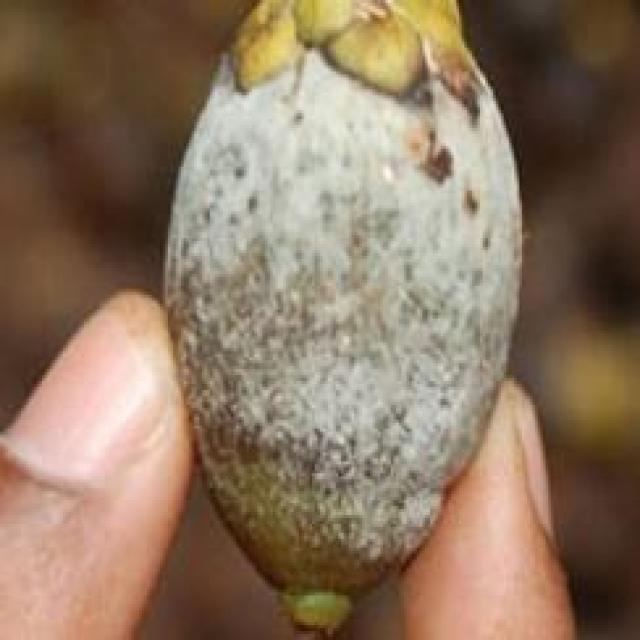damaged: (160, 0, 519, 637)
